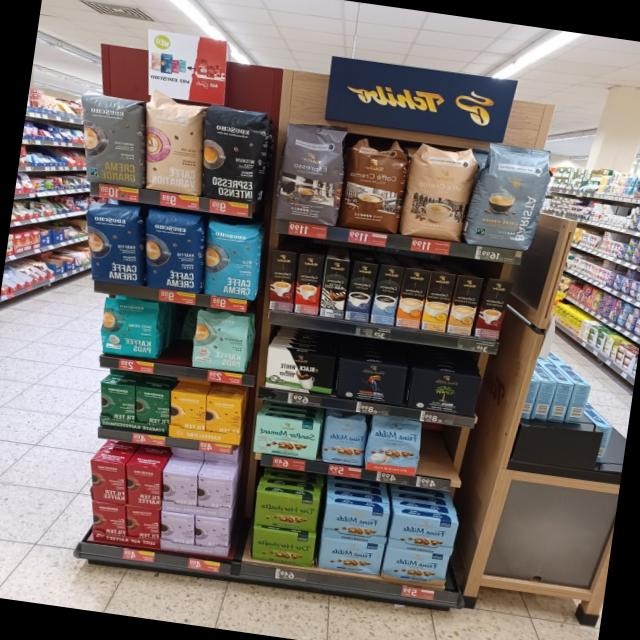BM Gemahlen: (407, 367, 484, 418)
BW Gemahlen: (262, 345, 336, 397)
Barista CC: (464, 138, 556, 255)
CC Mild: (400, 140, 480, 244)
CC Vollmundig 36 Pads: (338, 134, 412, 236)
Espresso Aromatisch: (272, 121, 348, 229)
FM 36 Pads: (364, 416, 424, 478)
FM Bohne: (318, 410, 368, 468)
FM Gemahlen: (387, 512, 460, 556), (322, 502, 391, 546), (380, 546, 450, 588), (316, 536, 384, 578)
Herzhatfe Mundig: (252, 490, 321, 534), (250, 526, 316, 568)
LG Gemahlen: (333, 357, 410, 408)
SM Gemahlen: (250, 412, 322, 462)
Simo CCMild bigpack: (420, 271, 456, 332)
Simo CCVollmundig bigpack: (395, 268, 430, 328)
Simo Decaff: (446, 274, 484, 336)
Simo Es Brazil: (292, 253, 326, 315)
Simo Es Caramel: (473, 278, 514, 339), (269, 250, 296, 312)
Simo Es Elegant: (320, 258, 350, 319)
Simo Es Kraft: (345, 260, 379, 321)
Simo Es Vanilla: (370, 264, 405, 326)
